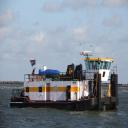tugboat: (9, 51, 120, 114)
